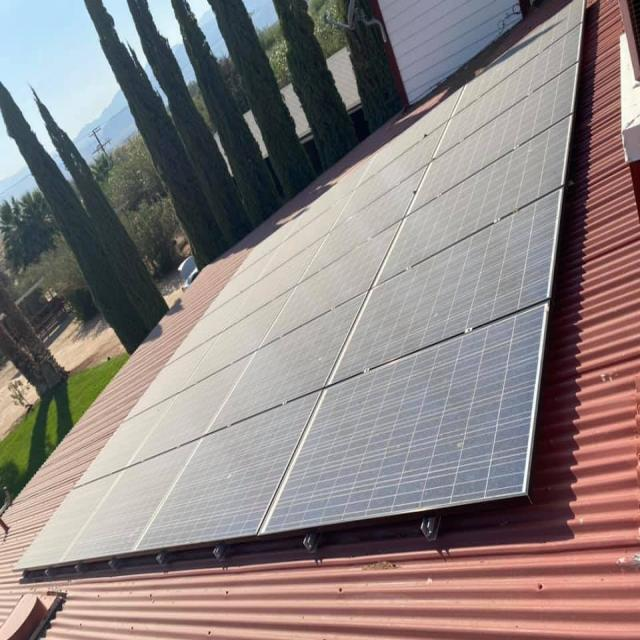dust-solar-panel: (14, 0, 585, 569)
